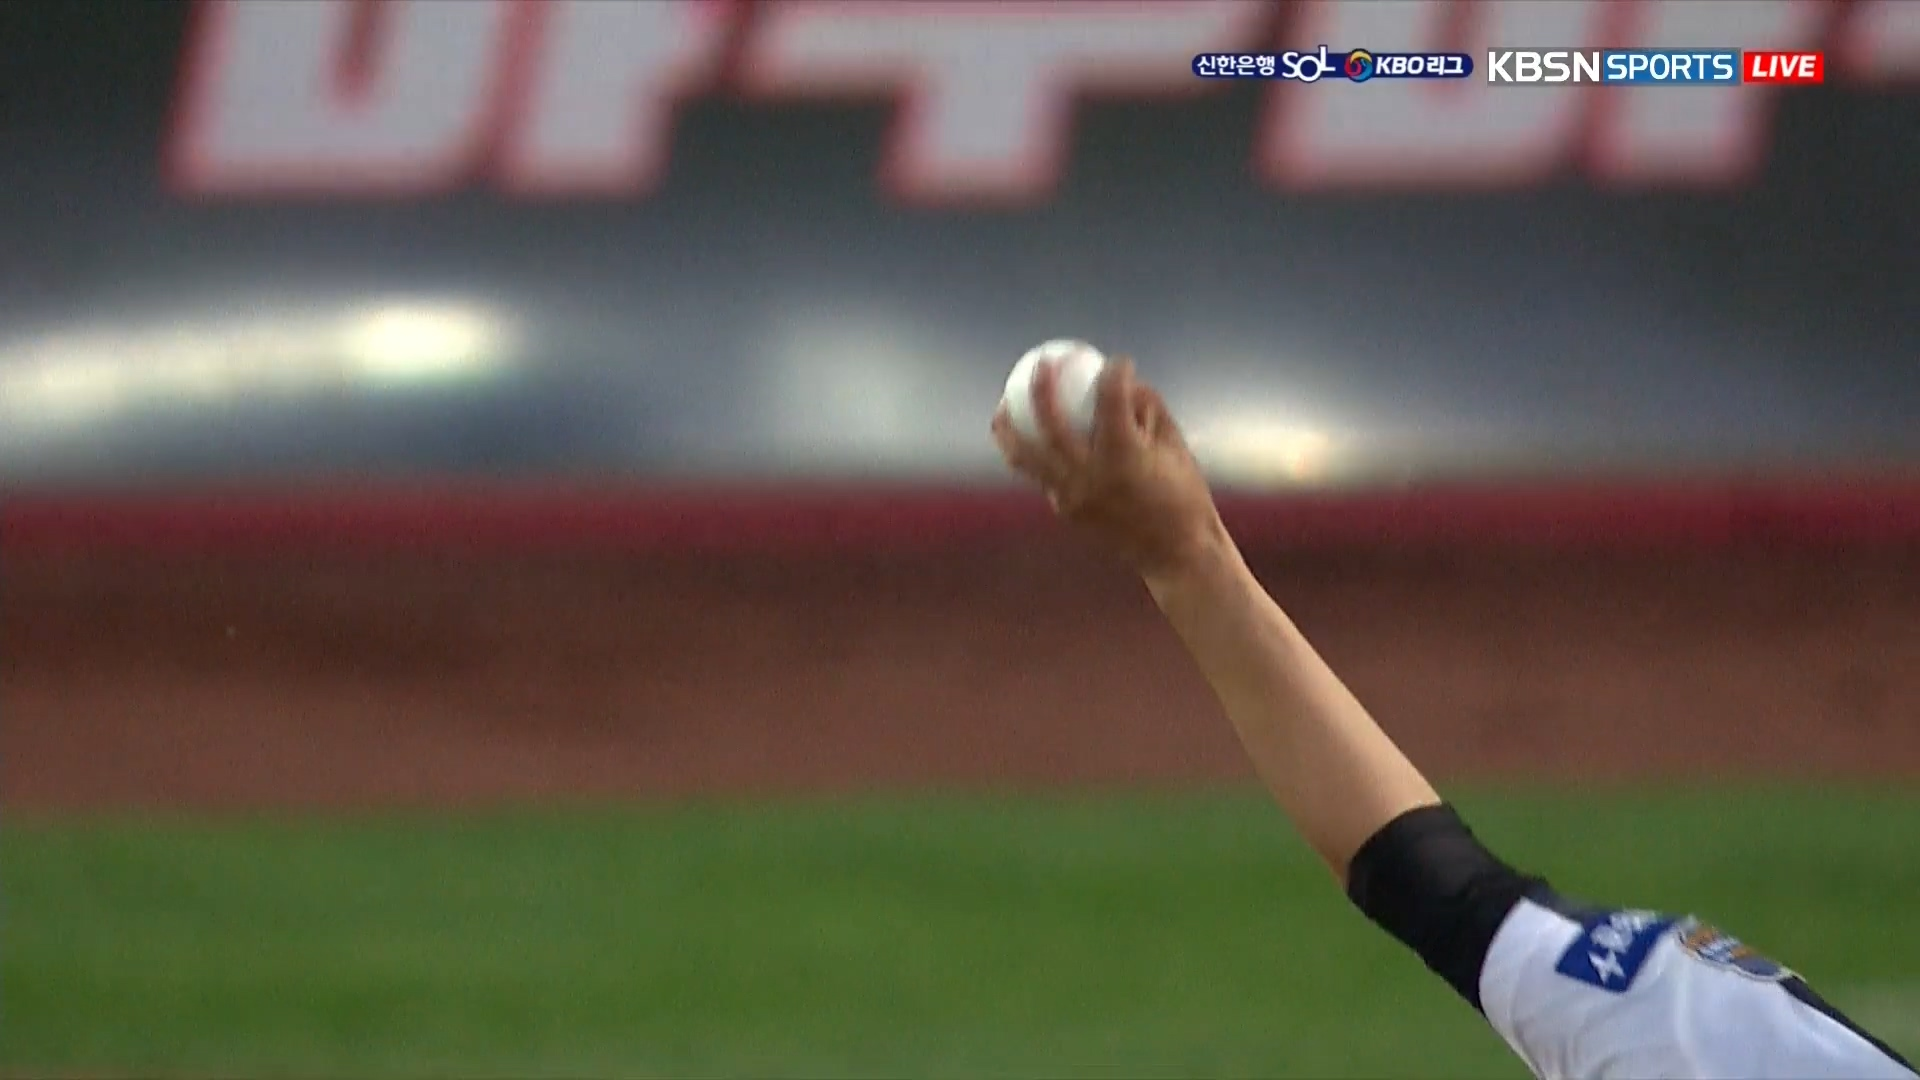zoomin_hand: (975, 306, 1433, 886)
